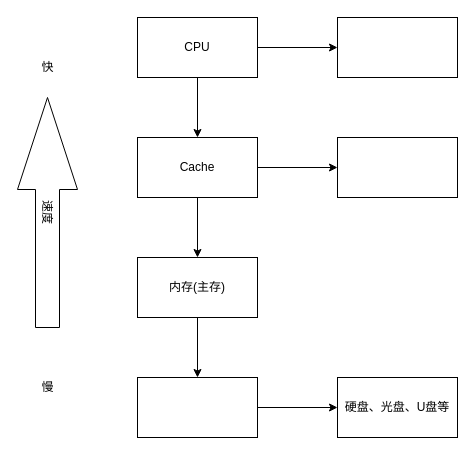
Image size: 475x455. Some labels were removed from this diagram. Here are the shapes that lost their labels. From the top down, the centre of each, then its label:
pixel 397 47: 寄存器
pixel 397 167: 按内容存取
pixel 197 407: 外存(辅存)
